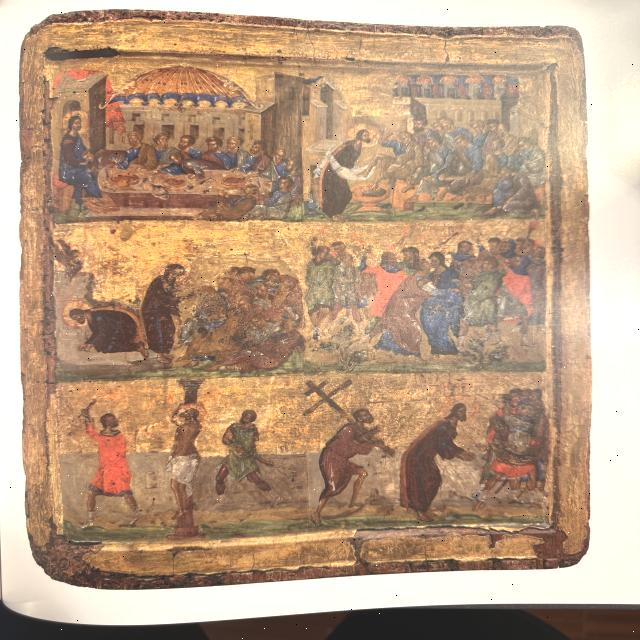aura: (441, 393, 482, 427), (64, 300, 96, 332), (350, 125, 382, 150), (63, 111, 91, 137)
christ: (395, 388, 485, 524), (315, 122, 385, 216), (59, 295, 151, 365), (51, 110, 107, 212)
